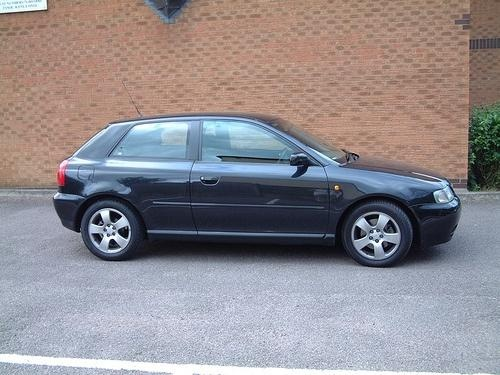car: (54, 115, 462, 269)
